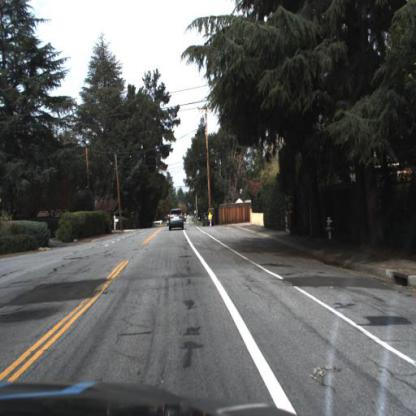car: (162, 204, 187, 236)
